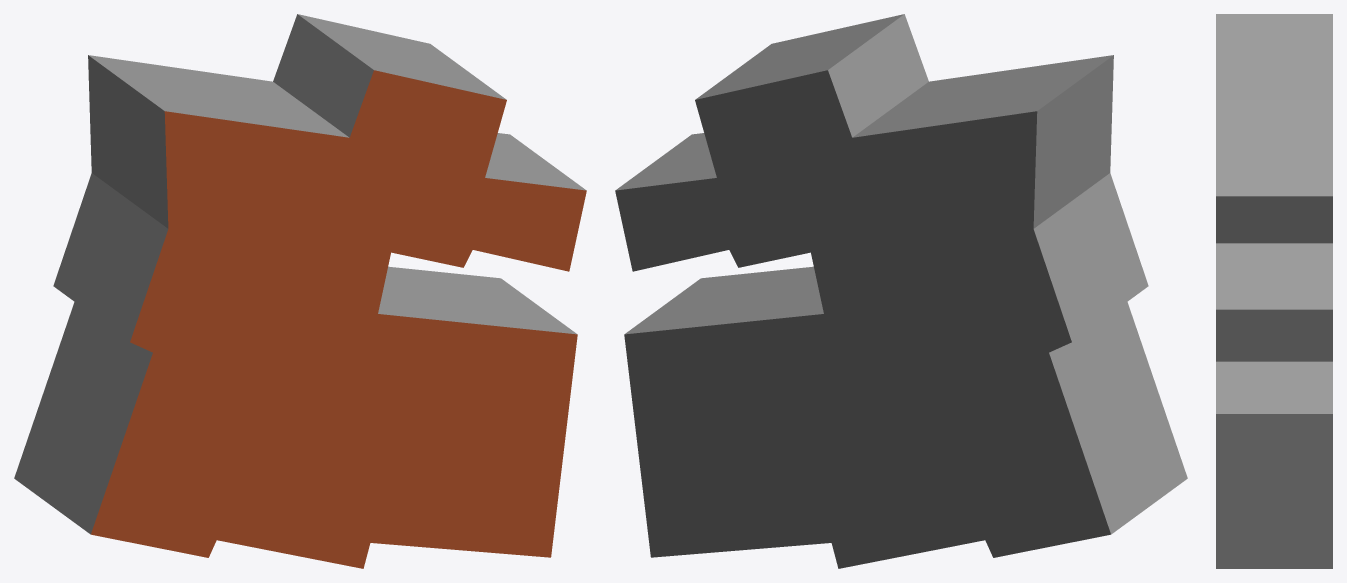
Rendered from construction_2354_assumed_A_Casa_h6m.obj.
3 views of the same model, side by side, from view 1: azimuth 30°, elevation 25°; view 2: azimuth 150°, elevation 25°; view 3: azimuth 270°, elevation 25° (orthographic). The views are drawn at different scales.
Visible parts, largest first — view 1: construction_2354_assumed_A_Casa; view 2: construction_2354_assumed_A_Casa; view 3: construction_2354_assumed_A_Casa.
Boxes of the visible parts, x1,y1,x2,y2 form: construction_2354_assumed_A_Casa: [14, 14, 586, 568]; construction_2354_assumed_A_Casa: [615, 14, 1187, 568]; construction_2354_assumed_A_Casa: [1216, 14, 1332, 568].
Size of the model in its own units: 22.4 by 23.34 by 6.
